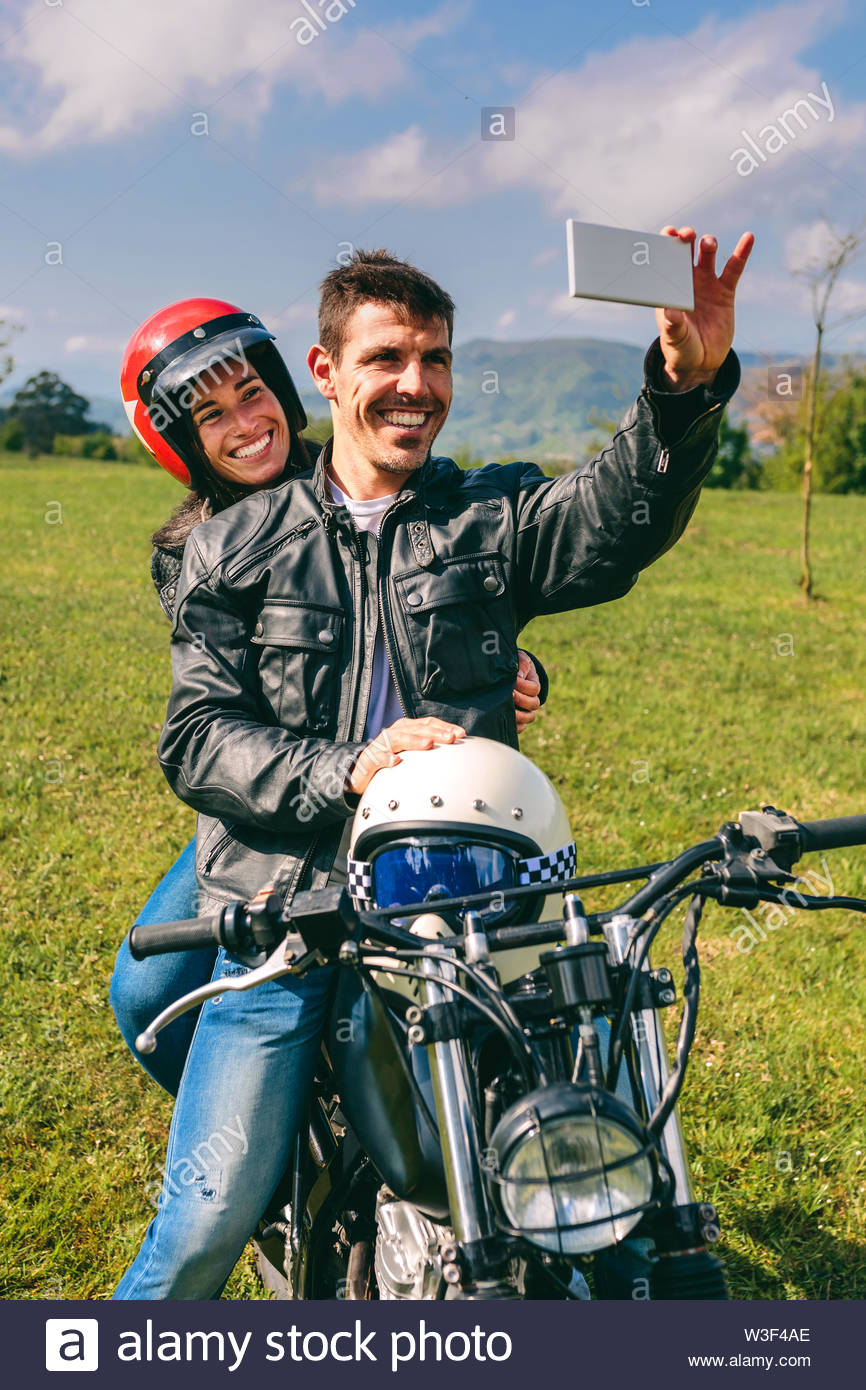su dung dien thoai: (315, 214, 749, 495)
